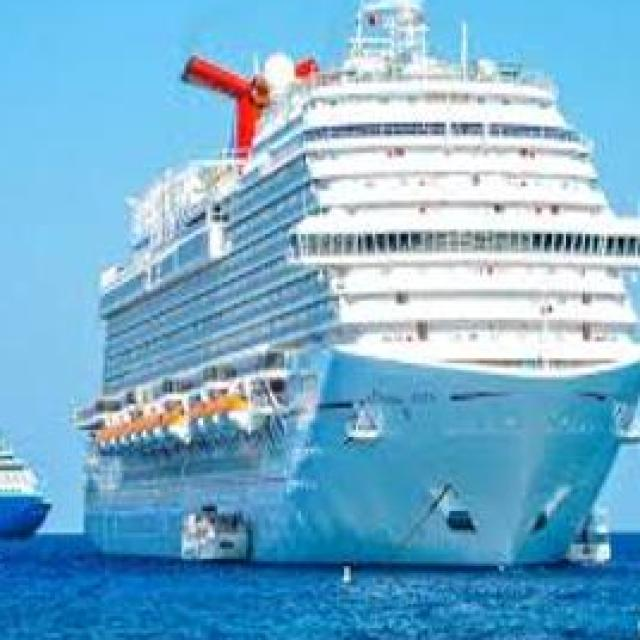passenger ship: (64, 33, 640, 566), (0, 425, 57, 535)
